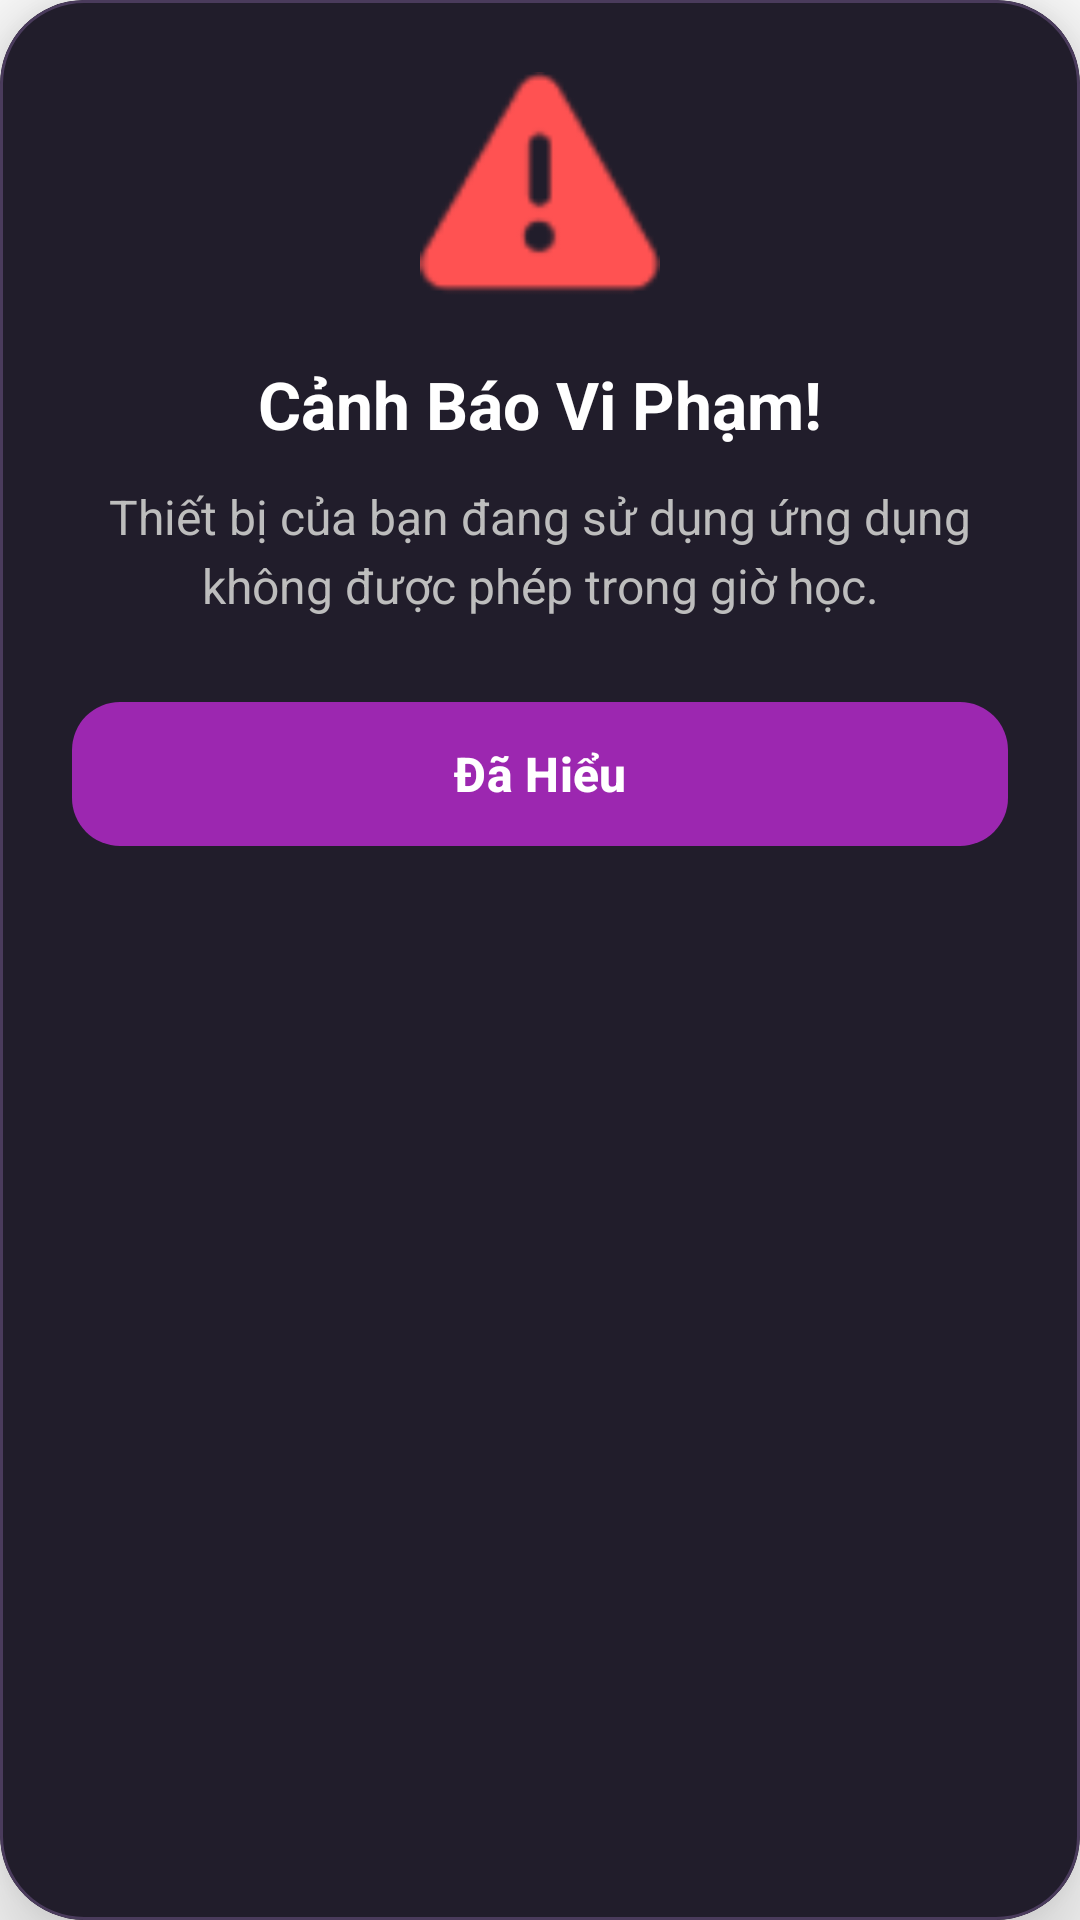

Icons on this 1080 x 1920 Android screen, each with the point to tap as [x,y]:
alert: [540,181]
